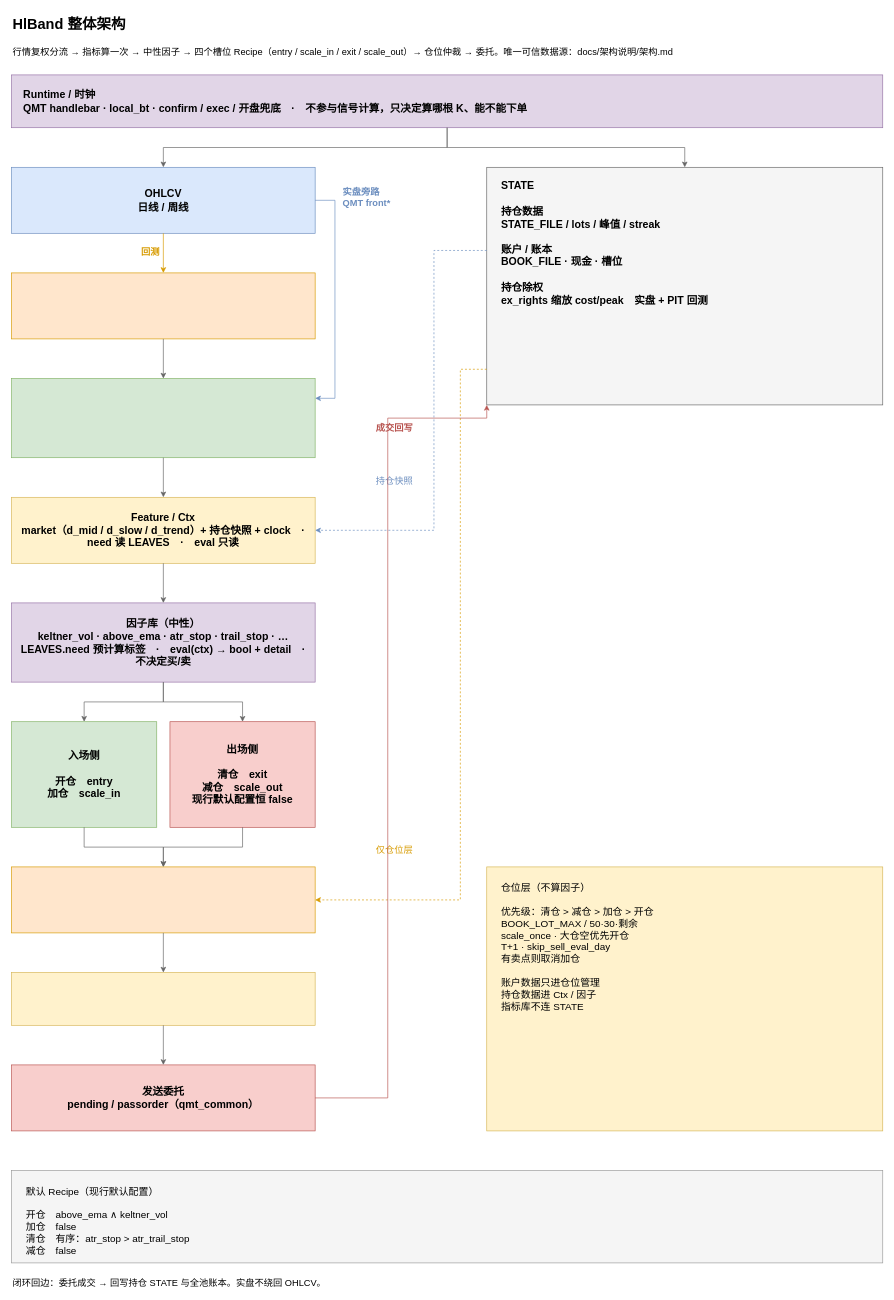
Some shapes in this 894 by 1300 pixel diagram are drawn without their labels. Here are the shapes that lost their labels. From the top down, the centre of each, then its label:
point (163, 305): 动态复权（PIT） none 价 + divid factors · 仅回测
point (163, 418): 技术指标库 MA · EMA · ATR（威尔德） · 肯特纳 仅接受复权行情序列作为输入，不算持仓 / 账户
point (163, 899): 仓位管理 仲裁 · book 分档 · T+1 · sizing
point (163, 998): Intent open / add / flat / reduce
